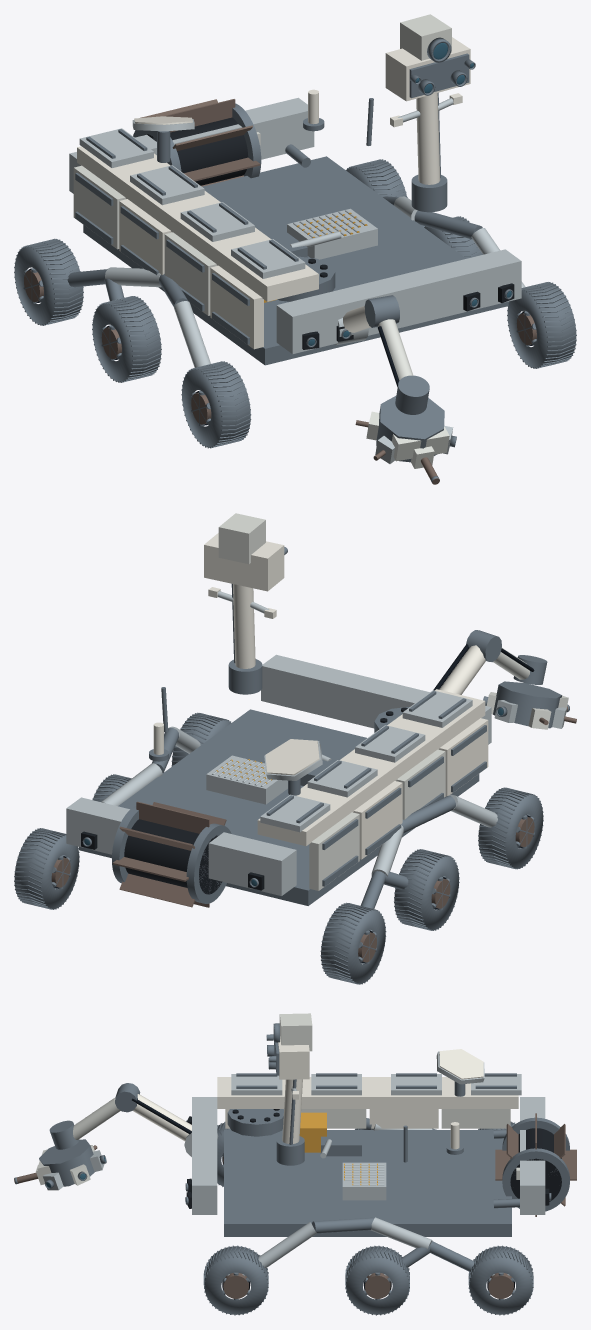
File: perseverance_cutaway.glb
3 renders of one model, top to bottom at view 1: azimuth 30°, elevation 25°; view 2: azimuth 150°, elevation 25°; view 3: azimuth 270°, elevation 25°, orthographic. The views are drawn at different scales.
Visible parts, largest first — view 1: perseverance_body.mesh_Machined_steel, perseverance_body.front_equipment.mesh_Satin_aluminum, perseverance_body.deck.mesh_Warm_white_enamel, perseverance_body.deck.mesh_Satin_aluminum, perseverance_mobility.rocker_left.bogie.axle_middle.wheel_mi, perseverance_body.mesh_Warm_white_enamel, perseverance_mobility.rocker_left.steer_front.wheel_front.ri, perseverance_mobility.rocker_right.steer_front.wheel_front.r, perseverance_mobility.rocker_left.bogie.steer_rear.wheel_rea, perseverance_body.mesh_Pale_thermal_blanket, perseverance_body.rear_equipment.mesh_Satin_aluminum, perseverance_power_comms.mmrtg.mesh_Heat-stained_alloy (+20 smaller); view 2: perseverance_body.mesh_Machined_steel, perseverance_body.front_equipment.mesh_Satin_aluminum, perseverance_body.rear_equipment.mesh_Satin_aluminum, perseverance_body.deck.mesh_Warm_white_enamel, perseverance_body.deck.mesh_Satin_aluminum, perseverance_power_comms.mmrtg.mesh_Heat-stained_alloy, perseverance_body.mesh_Pale_thermal_blanket, perseverance_mobility.rocker_left.bogie.steer_rear.wheel_rea, perseverance_mobility.rocker_right.bogie.steer_rear.wheel_re, perseverance_mobility.rocker_left.bogie.axle_middle.wheel_mi, perseverance_mobility.rocker_left.steer_front.wheel_front.ri, perseverance_body.mesh_Warm_white_enamel (+17 smaller); view 3: perseverance_body.mesh_Machined_steel, perseverance_body.deck.mesh_Warm_white_enamel, perseverance_mobility.rocker_right.bogie.steer_rear.wheel_re (×2), perseverance_mobility.rocker_right.bogie.axle_middle.wheel_m (×2), perseverance_mobility.rocker_right.steer_front.wheel_front.r (×2), perseverance_body.deck.mesh_Satin_aluminum, perseverance_body.front_equipment.mesh_Satin_aluminum, perseverance_body.mesh_Pale_thermal_blanket, perseverance_body.rear_equipment.mesh_Satin_aluminum, perseverance_power_comms.mmrtg.mesh_Machined_steel, perseverance_mobility.rocker_right.mesh_Satin_aluminum, perseverance_sampling.tube_storage.mesh_Satin_aluminum (+19 smaller).
Part boxes in pixels (x1,y1,x2,y2): perseverance_body.mesh_Machined_steel: (75, 156, 508, 365); perseverance_body.front_equipment.mesh_Satin_aluminum: (276, 249, 521, 354); perseverance_body.deck.mesh_Warm_white_enamel: (77, 146, 318, 301); perseverance_body.deck.mesh_Satin_aluminum: (79, 128, 305, 278); perseverance_mobility.rocker_left.bogie.axle_middle.wheel_mi: (92, 296, 161, 382); perseverance_body.mesh_Warm_white_enamel: (119, 199, 263, 349); perseverance_mobility.rocker_left.steer_front.wheel_front.ri: (181, 361, 251, 448); perseverance_mobility.rocker_right.steer_front.wheel_front.r: (507, 282, 576, 368); perseverance_mobility.rocker_left.bogie.steer_rear.wheel_rea: (14, 238, 83, 325); perseverance_body.mesh_Pale_thermal_blanket: (73, 165, 217, 315); perseverance_body.rear_equipment.mesh_Satin_aluminum: (69, 97, 314, 193); perseverance_power_comms.mmrtg.mesh_Heat-stained_alloy: (140, 99, 260, 186); perseverance_body.mesh_Machined_steel: (79, 709, 486, 905); perseverance_body.front_equipment.mesh_Satin_aluminum: (261, 654, 491, 744); perseverance_body.rear_equipment.mesh_Satin_aluminum: (66, 797, 296, 895); perseverance_body.deck.mesh_Warm_white_enamel: (257, 689, 485, 846); perseverance_body.deck.mesh_Satin_aluminum: (260, 690, 472, 832); perseverance_power_comms.mmrtg.mesh_Heat-stained_alloy: (112, 801, 226, 907); perseverance_body.mesh_Pale_thermal_blanket: (309, 749, 445, 890); perseverance_mobility.rocker_left.bogie.steer_rear.wheel_rea: (320, 902, 386, 984); perseverance_mobility.rocker_right.bogie.steer_rear.wheel_re: (14, 828, 79, 909); perseverance_mobility.rocker_left.bogie.axle_middle.wheel_mi: (394, 849, 459, 930); perseverance_mobility.rocker_left.steer_front.wheel_front.ri: (478, 787, 543, 869); perseverance_body.mesh_Warm_white_enamel: (353, 718, 488, 859); perseverance_body.mesh_Machined_steel: (224, 1130, 511, 1236); perseverance_body.deck.mesh_Warm_white_enamel: (217, 1077, 518, 1108); perseverance_mobility.rocker_right.bogie.steer_rear.wheel_re (×2): (468, 1245, 533, 1315); perseverance_mobility.rocker_right.bogie.axle_middle.wheel_m (×2): (345, 1245, 409, 1315); perseverance_mobility.rocker_right.steer_front.wheel_front.r (×2): (203, 1245, 268, 1315); perseverance_body.deck.mesh_Satin_aluminum: (231, 1074, 521, 1095); perseverance_body.front_equipment.mesh_Satin_aluminum: (192, 1097, 217, 1214); perseverance_body.mesh_Pale_thermal_blanket: (301, 1109, 510, 1128); perseverance_body.rear_equipment.mesh_Satin_aluminum: (520, 1097, 545, 1214); perseverance_power_comms.mmrtg.mesh_Machined_steel: (502, 1117, 569, 1211); perseverance_mobility.rocker_right.mesh_Satin_aluminum: (258, 1217, 432, 1267); perseverance_sampling.tube_storage.mesh_Satin_aluminum: (342, 1162, 386, 1200).
Size of the model in its own units: 2.72 by 2.37 by 4.65.
